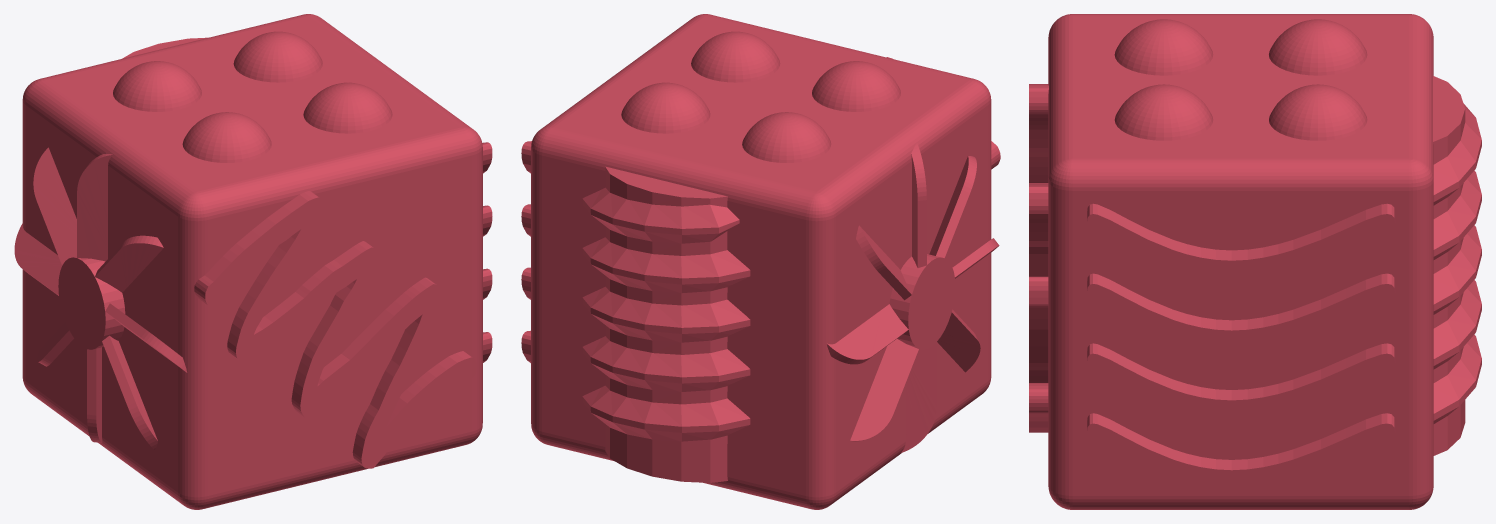
Rendered from Copy of M - Fidget Cube - Red.glb.
3 renders of one model, left to right at view 1: azimuth 30°, elevation 25°; view 2: azimuth 150°, elevation 25°; view 3: azimuth 270°, elevation 25°, orthographic. The views are drawn at different scales.
Visible parts, largest first — view 1: Mesh_Mesh_head_geo.001_lambert2SG.001; view 2: Mesh_Mesh_head_geo.001_lambert2SG.001; view 3: Mesh_Mesh_head_geo.001_lambert2SG.001.
Part boxes in pixels (x1,y1,x2,y2): Mesh_Mesh_head_geo.001_lambert2SG.001: [14, 14, 492, 509]; Mesh_Mesh_head_geo.001_lambert2SG.001: [521, 14, 1000, 509]; Mesh_Mesh_head_geo.001_lambert2SG.001: [1029, 14, 1481, 509].
Size of the model in its own units: 0.0226 by 0.0217 by 0.0235.
